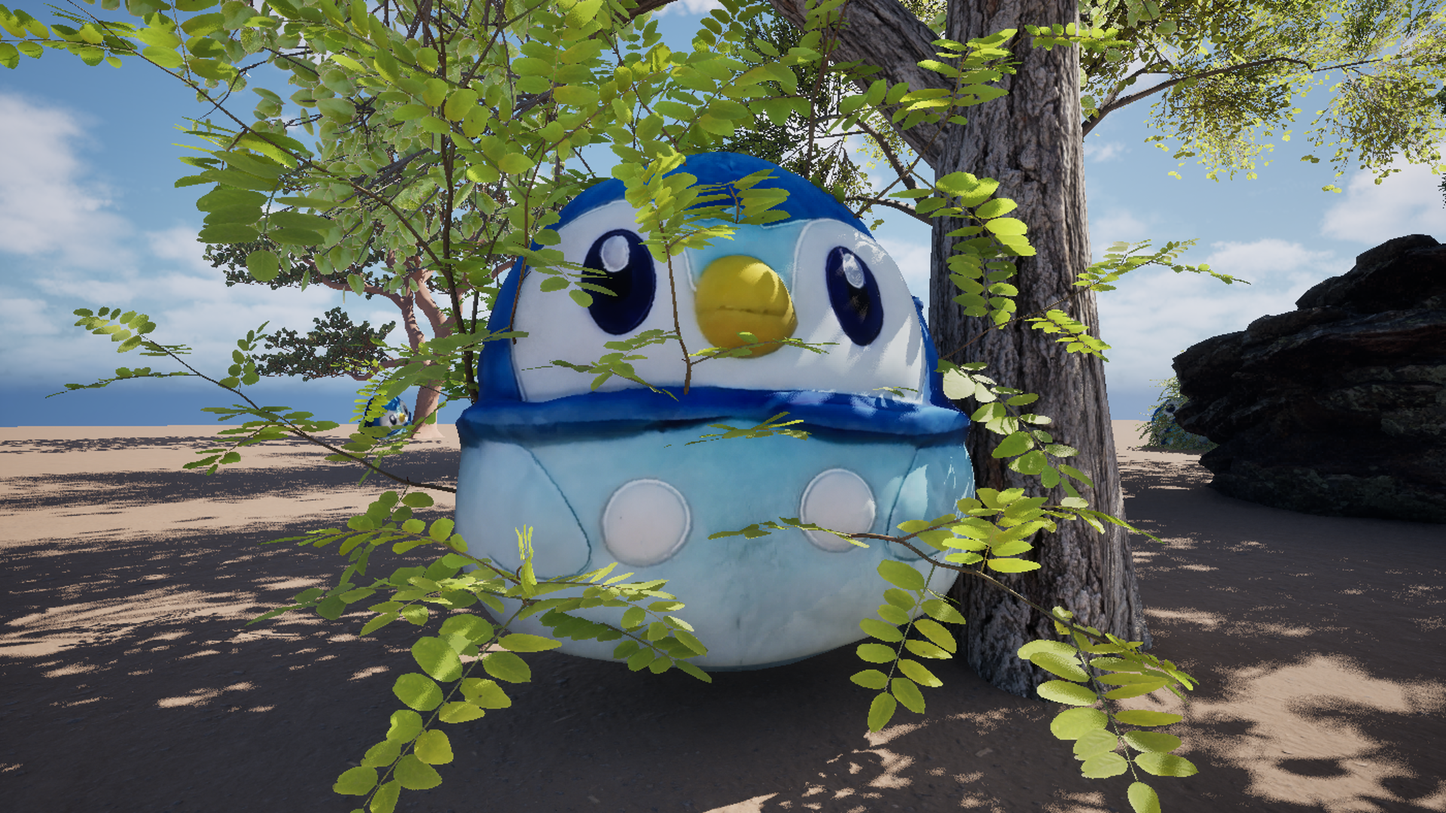Piplup: (387, 0, 1156, 813)
